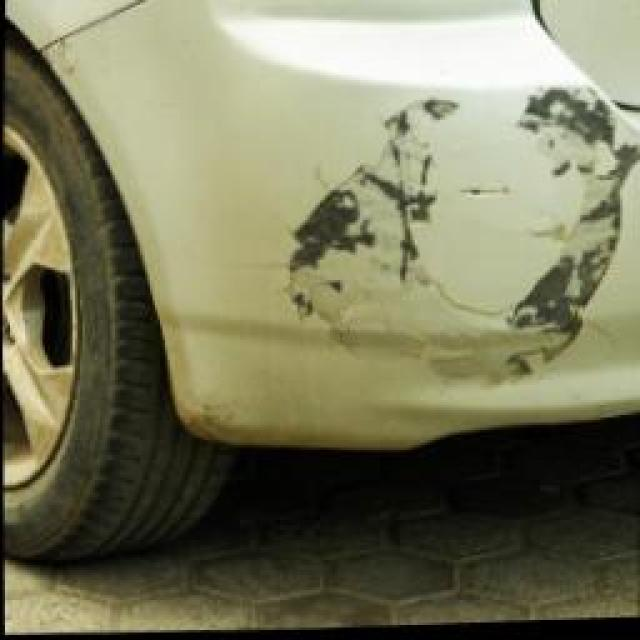Bumper: (190, 72, 639, 443)
